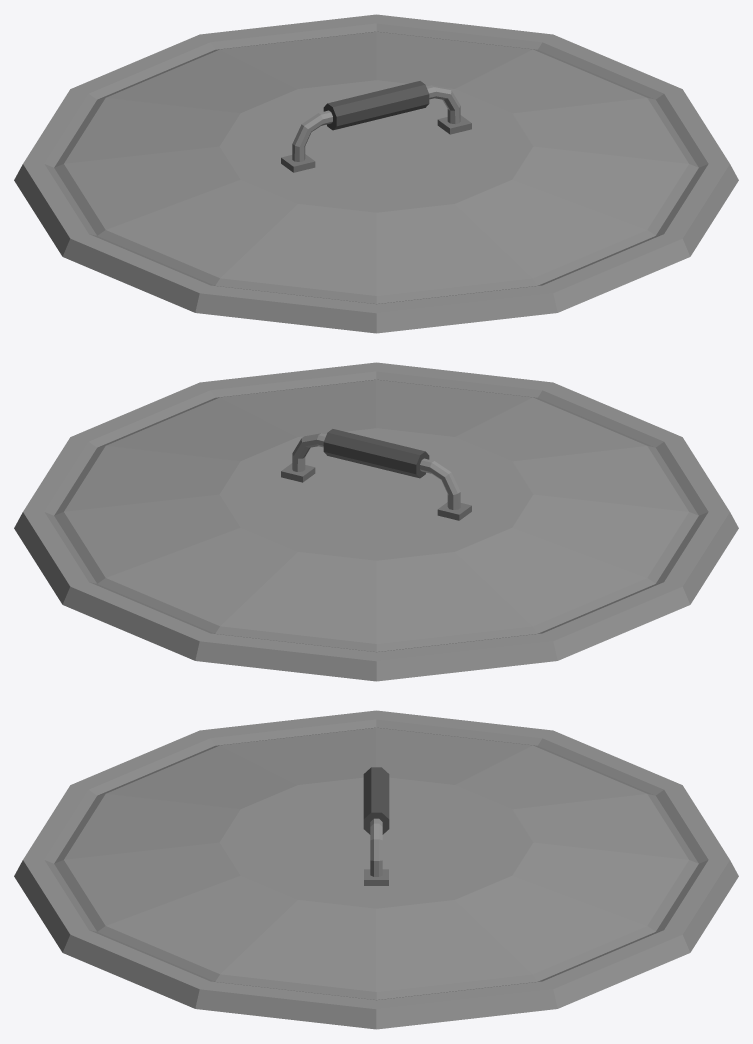
File: PanPart_01_C1.fbx
3 views of the same model, one above another, from view 1: azimuth 30°, elevation 25°; view 2: azimuth 150°, elevation 25°; view 3: azimuth 270°, elevation 25° (orthographic).
Visible parts, largest first — view 1: PanPart_01_C1; view 2: PanPart_01_C1; view 3: PanPart_01_C1.
Part boxes in pixels (box(x1,y1,x2,y2)): PanPart_01_C1: box(14, 14, 738, 333); PanPart_01_C1: box(14, 362, 738, 681); PanPart_01_C1: box(14, 710, 738, 1029).
Bounding box in the file's own units: 27.92 × 3.67 × 27.92.
